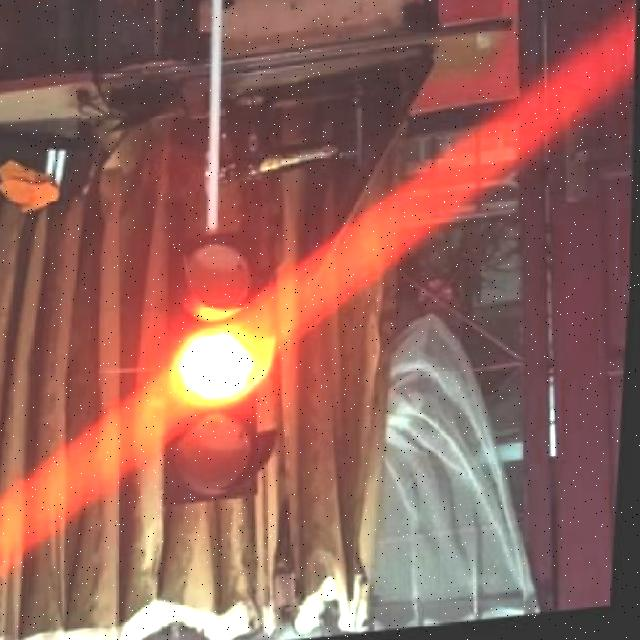Lampu Kuning: (162, 236, 296, 512)
